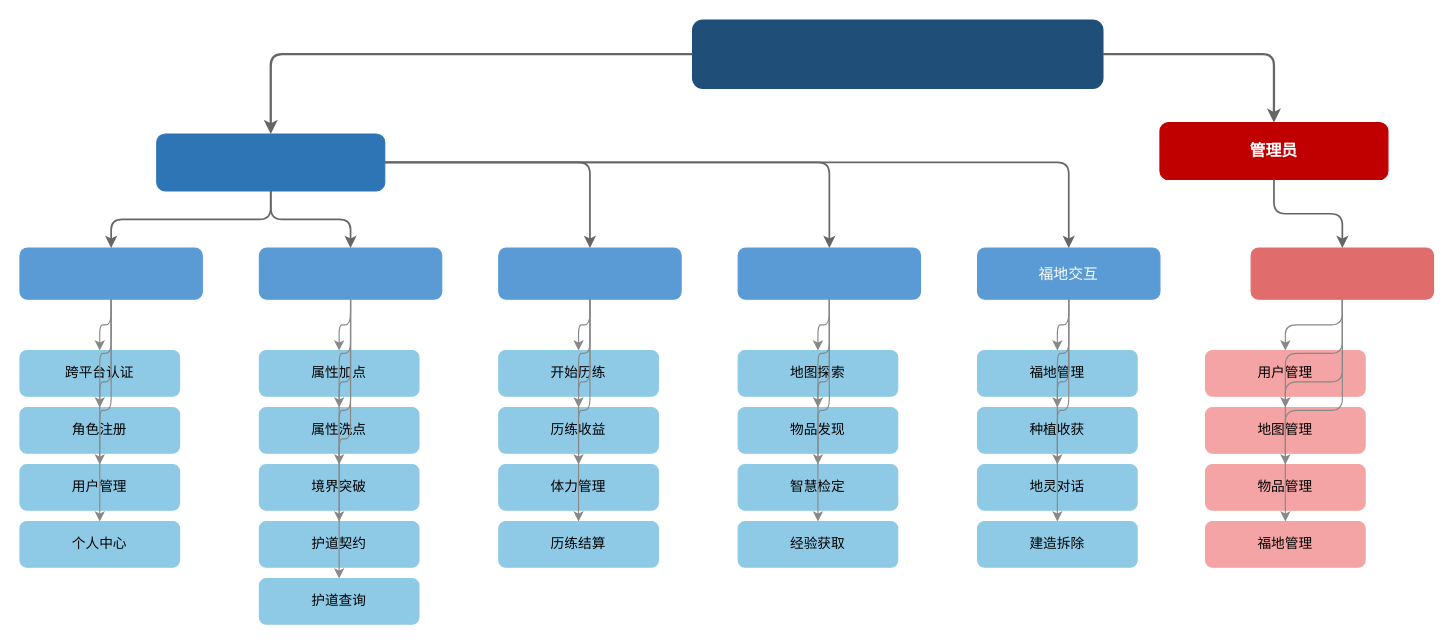
The diagram is 1454 pixels wide and 644 high, and some of its shapes have lost their labels. Here are the shapes that lost their labels. From the top down, the box of each, then its label:
(691, 19, 1103, 88): 仙道游戏系统
(156, 133, 385, 191): 普通用户
(19, 247, 202, 299): 用户接入
(258, 247, 442, 299): 修炼与突破
(498, 247, 681, 299): 历练流程
(737, 247, 921, 299): 探索流程
(1250, 247, 1434, 299): 系统管理
